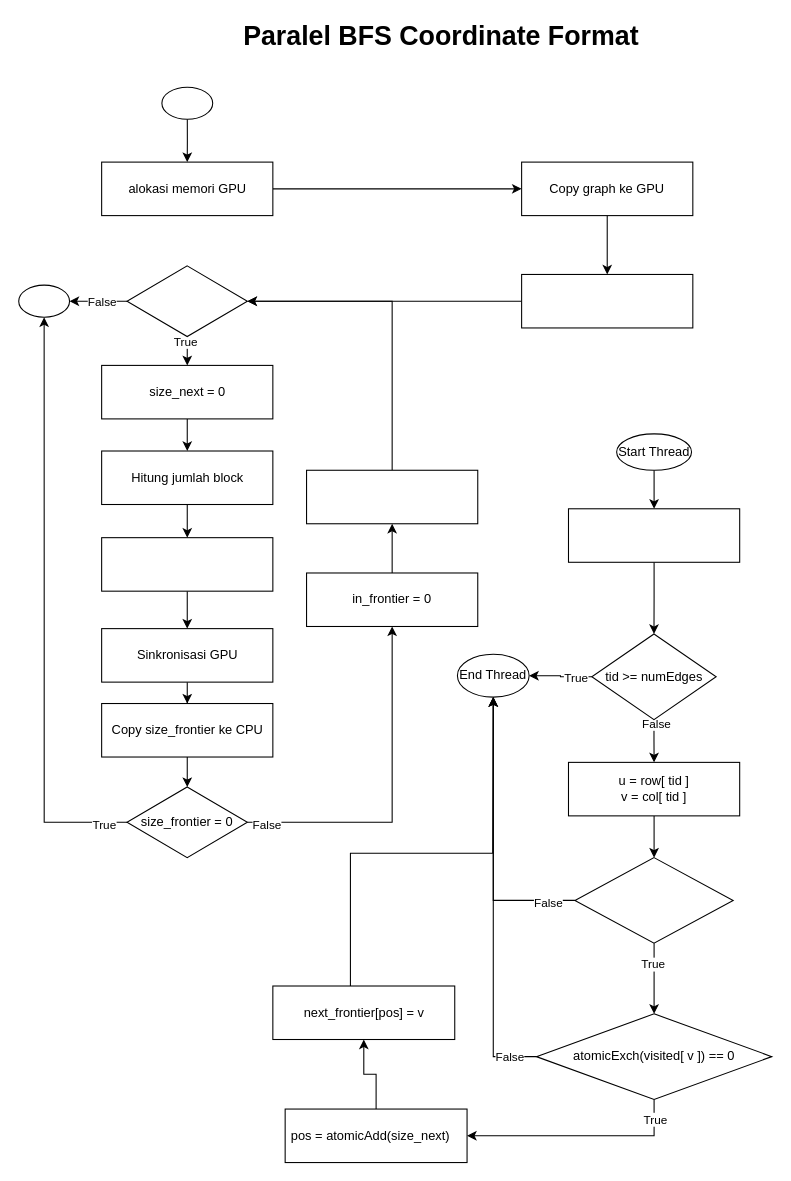
Image size: 791x1181. Some labels were removed from this diagram. Each missing label, with the centre of its shape:
"End" belongs at point (44, 300).
"hitung tid ( Thread Id )" belongs at point (653, 535).
"in_frontier[ start ] = 1 visited[ start ] =1 size_frontier = 1" belongs at point (607, 300).
"in_frontier[u] == 1" belongs at point (653, 900).
"Launch bfs_kernel" belongs at point (187, 564).
"size_frontier > 0" belongs at point (186, 301).
"Tandai next_frontier jadi in_frontier" belongs at point (391, 496).
